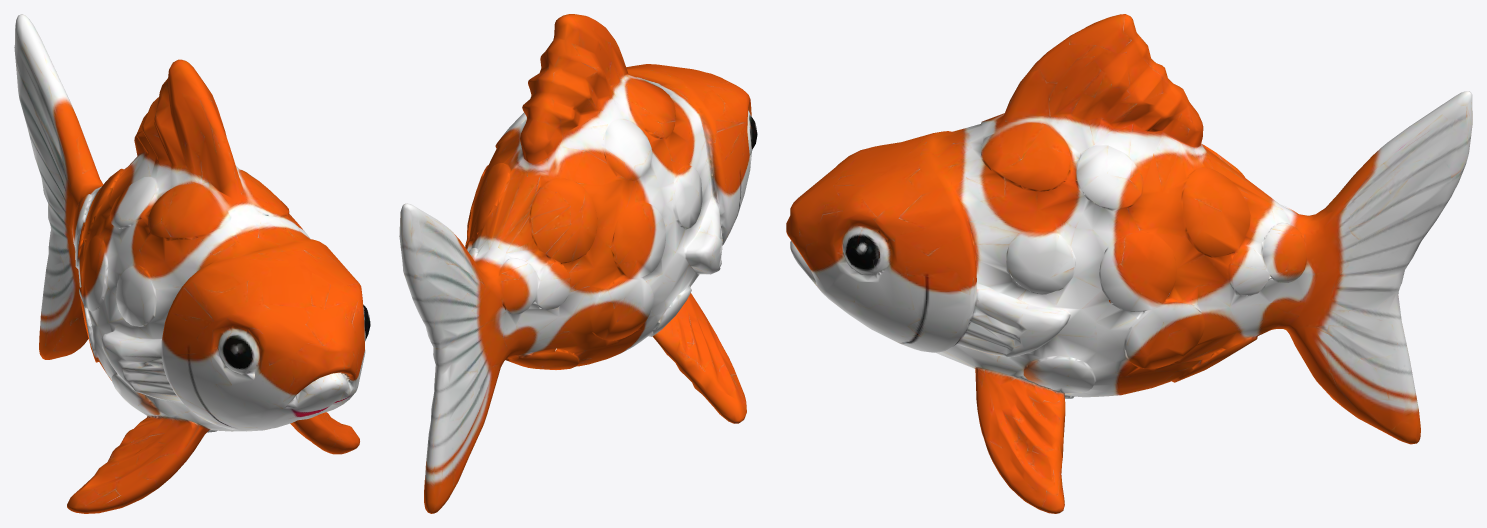
The model's file is koi.glb.
The picture shows the model from 3 angles, left to right: view 1: azimuth 30°, elevation 25°; view 2: azimuth 150°, elevation 25°; view 3: azimuth 270°, elevation 25°; orthographic projection. The views are drawn at different scales.
Bounding box in the file's own units: 1 × 1.32 × 1.91.
1 material, 1 textured.
